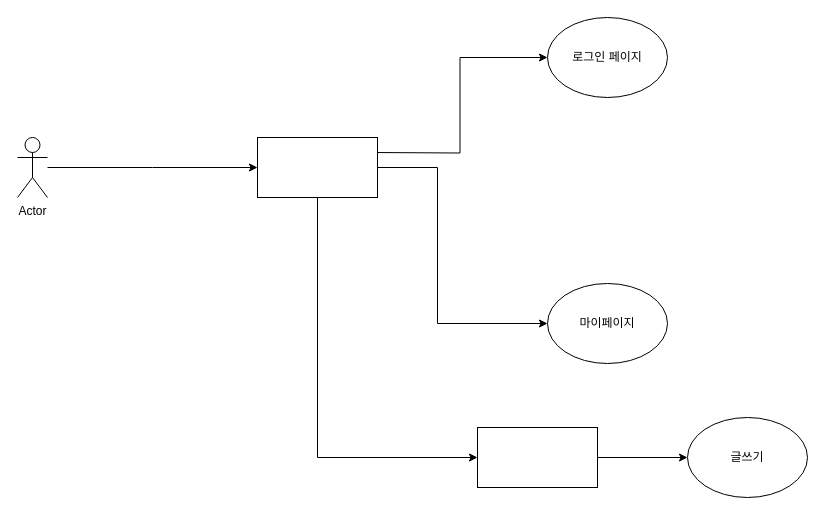
The diagram is 825 pixels wide and 515 high, and some of its shapes have lost their labels. Each missing label, with the centre of its shape:
여행 포인트: the point at 537,457
지도: the point at 317,167
